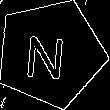N_N: (28, 26, 73, 81)
